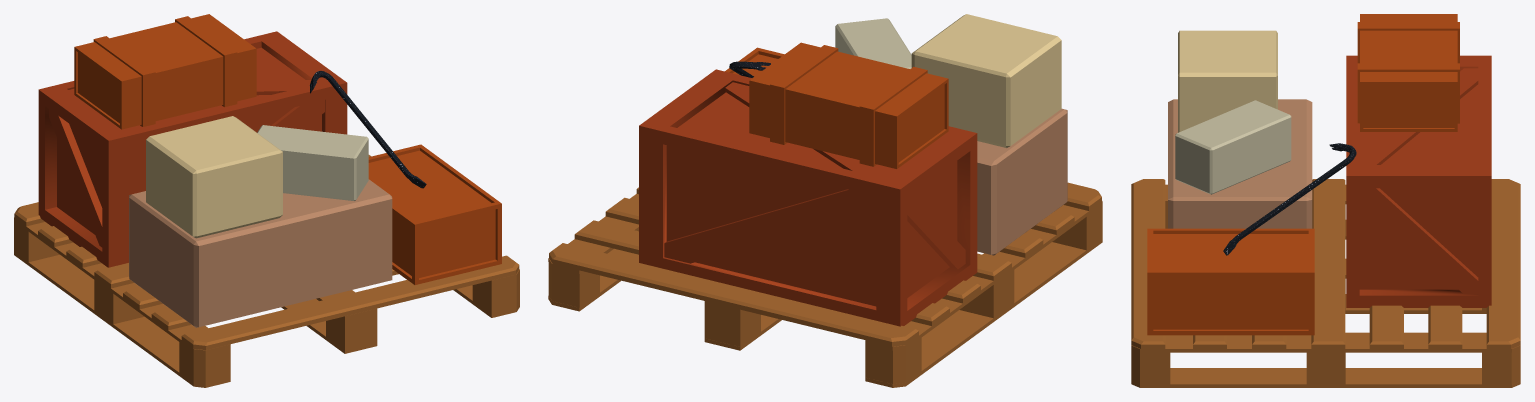
The model's file is Prop_Pallet_WB_C.fbx.
3 renders of one model, left to right at view 1: azimuth 30°, elevation 25°; view 2: azimuth 150°, elevation 25°; view 3: azimuth 270°, elevation 25°, orthographic. The views are drawn at different scales.
Visible parts, largest first — view 1: Prop_Pallet_WB_C; view 2: Prop_Pallet_WB_C; view 3: Prop_Pallet_WB_C.
Boxes of the visible parts, bbox=[...] form: Prop_Pallet_WB_C: bbox=[14, 14, 519, 387]; Prop_Pallet_WB_C: bbox=[548, 14, 1102, 387]; Prop_Pallet_WB_C: bbox=[1131, 14, 1520, 387].
Size of the model in its own units: 177 by 177 by 115.
